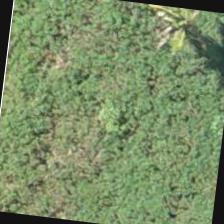Kelapa_Sawit: (128, 2, 223, 74)
